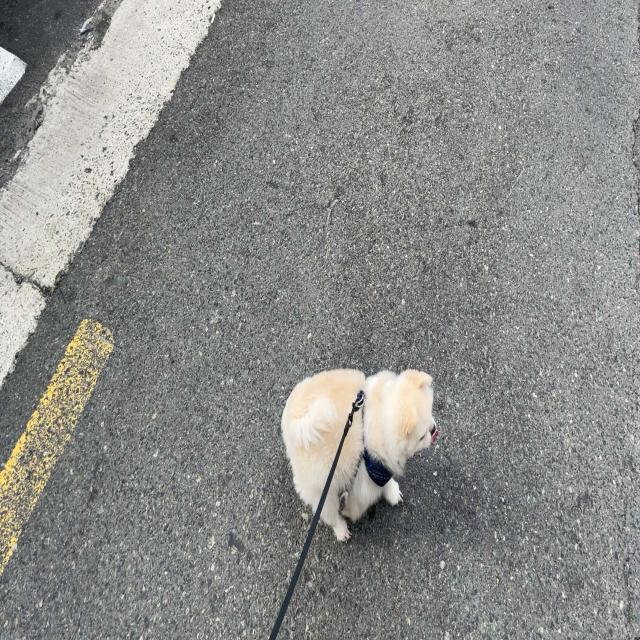Dog: (284, 368, 438, 542)
